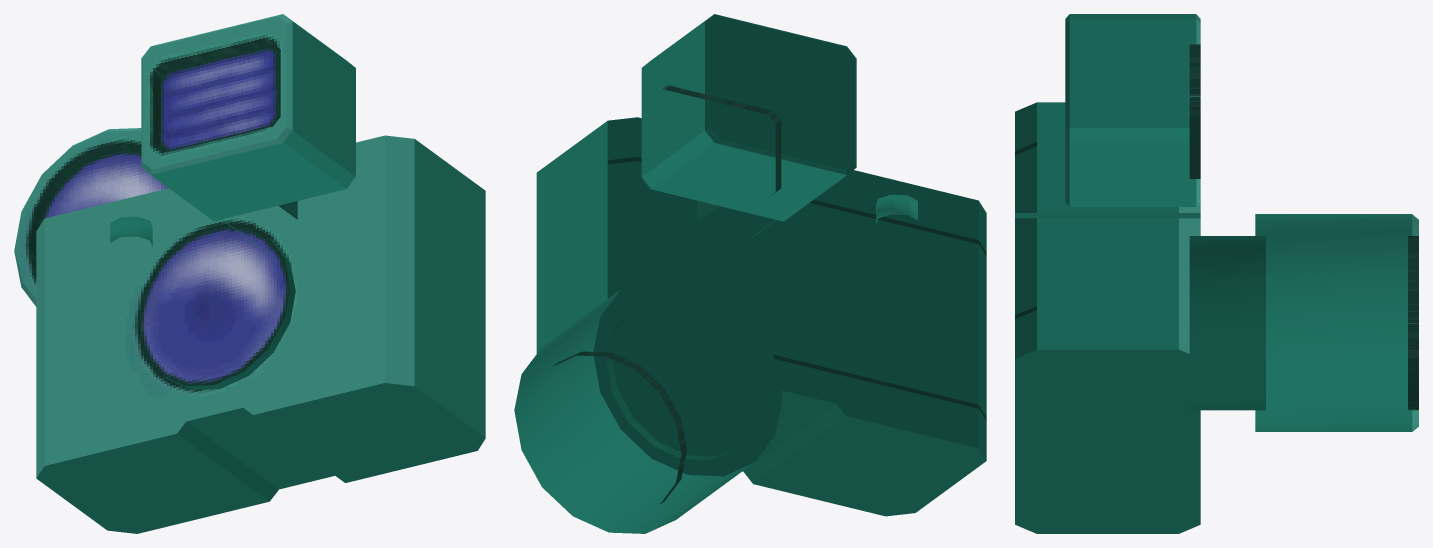
Rendered from ps2_save-icons_polaroidpete.glb.
The picture shows the model from 3 angles, left to right: view 1: azimuth 30°, elevation 25°; view 2: azimuth 150°, elevation 25°; view 3: azimuth 270°, elevation 25°; orthographic projection.
Visible parts, largest first — view 1: geki.ico; view 2: geki.ico; view 3: geki.ico.
Boxes of the visible parts, x1,y1,x2,y2 form: geki.ico: (14, 14, 485, 533); geki.ico: (514, 14, 986, 533); geki.ico: (1015, 14, 1418, 533).
Size of the model in its own units: 2.5 by 2.5 by 2.31.
1 material, 1 textured.
